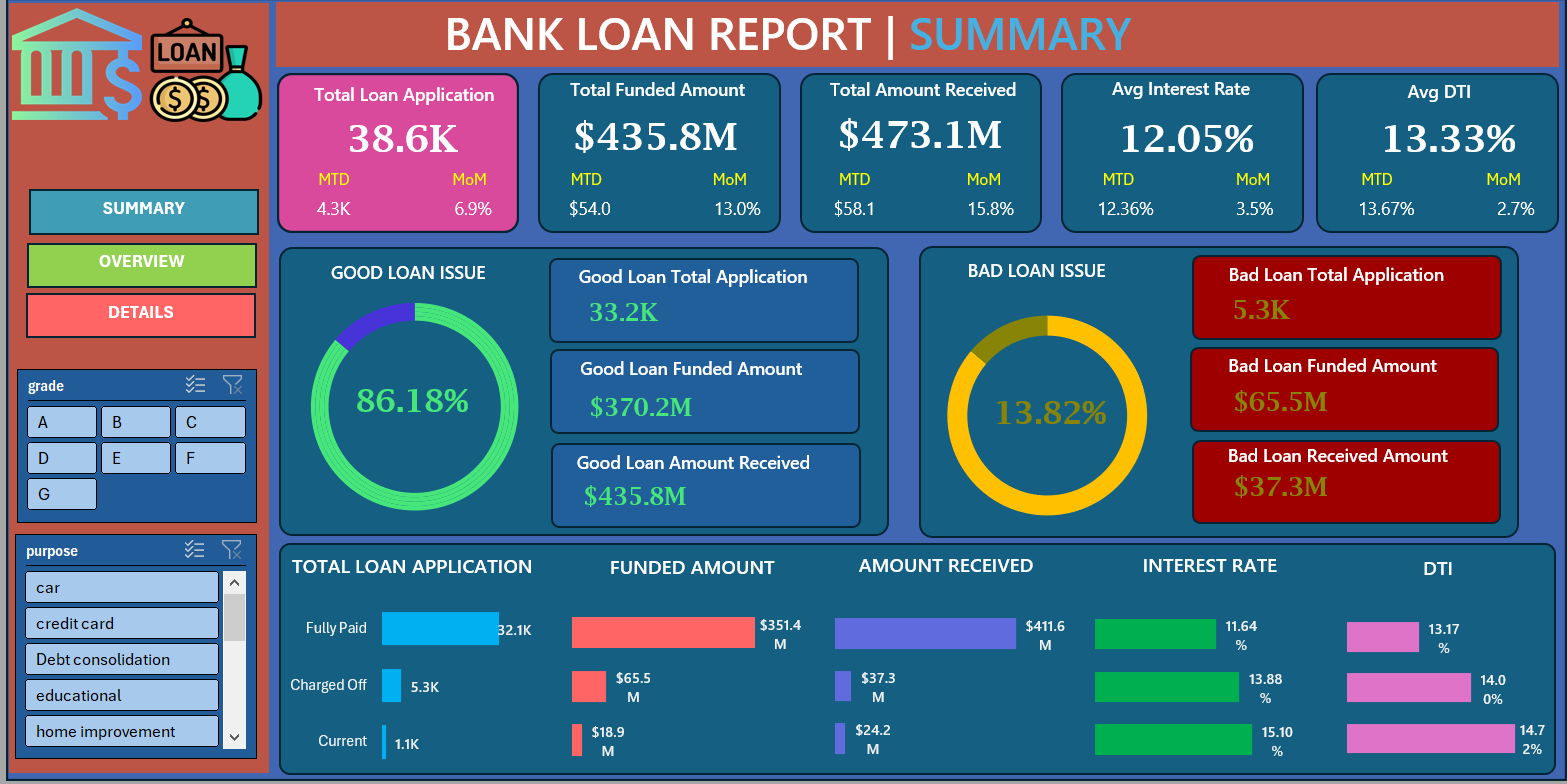

The dashboard page shown, as its layout file describes it:
{"tool":"powerbi","page":{"name":"SUMMARY","canvas":[1280,720],"ordinal":0},"visuals":[{"type":"image","box":[3.1,0,79.7,84.4],"z":0,"group":"g6"},{"type":"shape","box":[206.3,64.1,191,125],"z":0,"group":"g1"},{"type":"shape","box":[422,64.1,191,125],"z":0,"group":"g2"},{"type":"shape","box":[636.1,64.1,191,125],"z":0,"group":"g3"},{"type":"shape","box":[850.3,64.1,194.1,125],"z":0,"group":"g4"},{"type":"shape","box":[1067.5,64.1,191,125],"z":0,"group":"g5"},{"type":"shape","box":[206.3,207.9,522,262.6],"z":0},{"type":"image","box":[82.8,10.9,93.8,73.5],"z":1000,"group":"g6"},{"type":"card","fields":{"Values":["public loan_data.Total Loan Applications"]},"box":[220.4,96.9,162.6,46.9],"z":1000,"group":"g1"},{"type":"card","fields":{"Values":["public loan_data.Total Funded Amount"]},"box":[435.6,96.9,157,46.9],"z":1000,"group":"g2"},{"type":"card","fields":{"Values":["public loan_data.Total Amount Received"]},"box":[649.7,96.9,157,46.9],"z":1000,"group":"g3"},{"type":"card","fields":{"Values":["public loan_data.Avg Interest Rate"]},"box":[864.1,96.9,159.5,46.9],"z":1000,"group":"g4"},{"type":"card","fields":{"Values":["public loan_data.Avg DTI"]},"box":[1081.1,96.9,157,46.9],"z":1000,"group":"g5"},{"type":"card","fields":{"Values":["public loan_data.Good Loan %"]},"box":[250.1,336,126.6,46.9],"z":1000},{"type":"shape","box":[192.2,0,1087.8,61],"z":2000},{"type":"textbox","box":[206.3,64.1,190.7,39.1],"z":2000,"group":"g1"},{"type":"textbox","box":[422,64.1,184.1,39.1],"z":2000,"group":"g2"},{"type":"textbox","box":[636.1,64.1,184.1,39.1],"z":2000,"group":"g3"},{"type":"textbox","box":[850.3,64.1,187.1,39.1],"z":2000,"group":"g4"},{"type":"textbox","box":[1067.5,64.1,184.1,39.1],"z":2000,"group":"g5"},{"type":"card","title":"MTD","fields":{"Values":["public loan_data.MTD Loan Applications"]},"box":[206.3,143.8,87.5,45.3],"z":3000,"group":"g1"},{"type":"card","title":"MTD","fields":{"Values":["public loan_data.MTD Funded Amount"]},"box":[422,143.8,84.5,45.3],"z":3000,"group":"g2"},{"type":"card","title":"MTD","fields":{"Values":["public loan_data.MTD Total Amount Recieved"]},"box":[636.1,143.8,84.5,45.3],"z":3000,"group":"g3"},{"type":"card","title":"MTD","fields":{"Values":["public loan_data.Avg Interest Rate"]},"box":[850.3,143.8,85.9,45.3],"z":3000,"group":"g4"},{"type":"card","title":"MTD","fields":{"Values":["public loan_data.MTD Avg DTI"]},"box":[1067.5,143.8,84.5,45.3],"z":3000,"group":"g5"},{"type":"textbox","box":[215.7,207.9,211,39.1],"z":3000},{"type":"shape","box":[0,0,192.2,720.5],"z":4000},{"type":"card","title":"MoM","fields":{"Values":["public loan_data.MoM Loan Application"]},"box":[301.6,143.8,87.5,45.3],"z":4000,"group":"g1"},{"type":"card","title":"MoM","fields":{"Values":["public loan_data.MoM Total Funded Amount"]},"box":[514.1,143.8,84.5,45.3],"z":4000,"group":"g2"},{"type":"card","title":"MoM","fields":{"Values":["public loan_data.MoM Total Recieved Amount"]},"box":[728.2,143.8,84.5,45.3],"z":4000,"group":"g3"},{"type":"card","title":"MoM","fields":{"Values":["public loan_data.MoM Avg Int Rate"]},"box":[943.9,143.8,85.9,45.3],"z":4000,"group":"g4"},{"type":"card","title":"MoM","fields":{"Values":["public loan_data.MoM Avg DTI"]},"box":[1159.6,143.8,84.5,45.3],"z":4000,"group":"g5"},{"type":"textbox","box":[243.8,0,616.1,60.5],"z":5000},{"type":"group","id":"g1","title":"Group 1","box":[206.3,64.1,190.7,125],"z":6000},{"type":"group","id":"g2","title":"Group 1","box":[422,64.1,192.2,125],"z":7000},{"type":"donutChart","fields":{"Category":["public loan_data.Good vs Bad Loan"],"Y":["public loan_data.Total Loan Applications"]},"box":[206.3,242.3,223.5,228.2],"z":8000},{"type":"group","id":"g3","title":"Group 1","box":[636.1,64.1,192.2,125],"z":9000},{"type":"group","id":"g4","title":"Group 1","box":[850.3,64.1,193.8,125],"z":10000},{"type":"group","id":"g5","title":"Group 1","box":[1067.5,64.1,192.2,125],"z":11000},{"type":"image","box":[844,0,120.4,61],"z":12000},{"type":"group","id":"g6","title":"Group 2","box":[3.1,0,173.5,84.4],"z":13000},{"type":"shape","box":[737.7,207.9,522,262.6],"z":14000},{"type":"cardVisual","fields":{"Data":["public loan_data.Good Loan Applications","public loan_data.Good Loan Funded Amount","public loan_data.Good Loan Received Amount"]},"box":[436.1,214.1,284.5,250.1],"z":16000},{"type":"donutChart","fields":{"Category":["public loan_data.Good vs Bad Loan"],"Y":["public loan_data.Total Loan Applications"]},"box":[740.9,242.3,223.5,228.2],"z":17000},{"type":"textbox","box":[747.1,209.4,211,39.1],"z":18000},{"type":"card","fields":{"Values":["public loan_data.BAD Loan %"]},"box":[789.3,332.9,126.6,46.9],"z":19000},{"type":"cardVisual","fields":{"Data":["public loan_data.BAD Loan Applications","public loan_data.BAD Loan Funded Amount","public loan_data.BAD Loan Received Amount"]},"box":[973.7,211,278.2,250.1],"z":20000},{"type":"shape","box":[209.4,484.5,1048.8,236],"z":21000},{"type":"tableEx","fields":{"Values":["public loan_data.loan_status","public loan_data.Total Loan Applications","public loan_data.Total Funded Amount","public loan_data.Total Amount Received","public loan_data.MTD Funded Amount","public loan_data.MTD Total Amount Recieved","public loan_data.Avg Interest Rate","public loan_data.Avg DTI"]},"box":[221.9,520.5,1031.6,200.1],"z":22000},{"type":"textbox","box":[212.6,484.5,211,39.1],"z":23000},{"type":"slicer","fields":{"Values":["public loan_data.address_state"]},"box":[0,409.5,189.1,51.6],"z":24000},{"type":"textbox","box":[0,373.6,90.7,35.9],"z":25000},{"type":"slicer","fields":{"Values":["public loan_data.grade"]},"box":[0,523.6,189.1,51.6],"z":26000},{"type":"textbox","box":[0,484.5,78.1,35.9],"z":27000},{"type":"slicer","fields":{"Values":["public loan_data.purpose"]},"box":[1.6,637.7,189.1,51.6],"z":28000},{"type":"textbox","box":[0,601.8,90.7,35.9],"z":29000},{"type":"pageNavigator","box":[0,143.8,192.2,192.2],"z":29001},{"type":"image","box":[1151.9,0,125,61],"z":29002}]}

Visuals, with their boxes on the page's 1280x720 design canvas (x1, y1, x2, y2). These are canvas units, not pixel positions in the 1567x784 screenshot, which may show the page scaled, cropped or inside an application window:
image: box=[3, 0, 83, 84]
shape: box=[206, 64, 397, 189]
shape: box=[422, 64, 613, 189]
shape: box=[636, 64, 827, 189]
shape: box=[850, 64, 1044, 189]
shape: box=[1068, 64, 1258, 189]
shape: box=[206, 208, 728, 470]
image: box=[83, 11, 177, 84]
card - public loan_data.Total Loan Applications: box=[220, 97, 383, 144]
card - public loan_data.Total Funded Amount: box=[436, 97, 593, 144]
card - public loan_data.Total Amount Received: box=[650, 97, 807, 144]
card - public loan_data.Avg Interest Rate: box=[864, 97, 1024, 144]
card - public loan_data.Avg DTI: box=[1081, 97, 1238, 144]
card - public loan_data.Good Loan %: box=[250, 336, 377, 383]
shape: box=[192, 0, 1280, 61]
textbox: box=[206, 64, 397, 103]
textbox: box=[422, 64, 606, 103]
textbox: box=[636, 64, 820, 103]
textbox: box=[850, 64, 1037, 103]
textbox: box=[1068, 64, 1252, 103]
"MTD" card: box=[206, 144, 294, 189]
"MTD" card: box=[422, 144, 506, 189]
"MTD" card: box=[636, 144, 721, 189]
"MTD" card: box=[850, 144, 936, 189]
"MTD" card: box=[1068, 144, 1152, 189]
textbox: box=[216, 208, 427, 247]
shape: box=[0, 0, 192, 720]
"MoM" card: box=[302, 144, 389, 189]
"MoM" card: box=[514, 144, 599, 189]
"MoM" card: box=[728, 144, 813, 189]
"MoM" card: box=[944, 144, 1030, 189]
"MoM" card: box=[1160, 144, 1244, 189]
textbox: box=[244, 0, 860, 60]
"Group 1" group: box=[206, 64, 397, 189]
"Group 1" group: box=[422, 64, 614, 189]
donutChart - public loan_data.Good vs Bad Loan x public loan_data.Total Loan Applications: box=[206, 242, 430, 470]
"Group 1" group: box=[636, 64, 828, 189]
"Group 1" group: box=[850, 64, 1044, 189]
"Group 1" group: box=[1068, 64, 1260, 189]
image: box=[844, 0, 964, 61]
"Group 2" group: box=[3, 0, 177, 84]
shape: box=[738, 208, 1260, 470]
cardVisual - public loan_data.Good Loan Applications x public loan_data.Good Loan Funded Amount: box=[436, 214, 721, 464]
donutChart - public loan_data.Good vs Bad Loan x public loan_data.Total Loan Applications: box=[741, 242, 964, 470]
textbox: box=[747, 209, 958, 248]
card - public loan_data.BAD Loan %: box=[789, 333, 916, 380]
cardVisual - public loan_data.BAD Loan Applications x public loan_data.BAD Loan Funded Amount: box=[974, 211, 1252, 461]
shape: box=[209, 484, 1258, 720]
tableEx - public loan_data.loan_status x public loan_data.Total Loan Applications: box=[222, 520, 1254, 721]
textbox: box=[213, 484, 424, 524]
slicer - public loan_data.address_state: box=[0, 410, 189, 461]
textbox: box=[0, 374, 91, 410]
slicer - public loan_data.grade: box=[0, 524, 189, 575]
textbox: box=[0, 484, 78, 520]
slicer - public loan_data.purpose: box=[2, 638, 191, 689]
textbox: box=[0, 602, 91, 638]
pageNavigator: box=[0, 144, 192, 336]
image: box=[1152, 0, 1277, 61]
